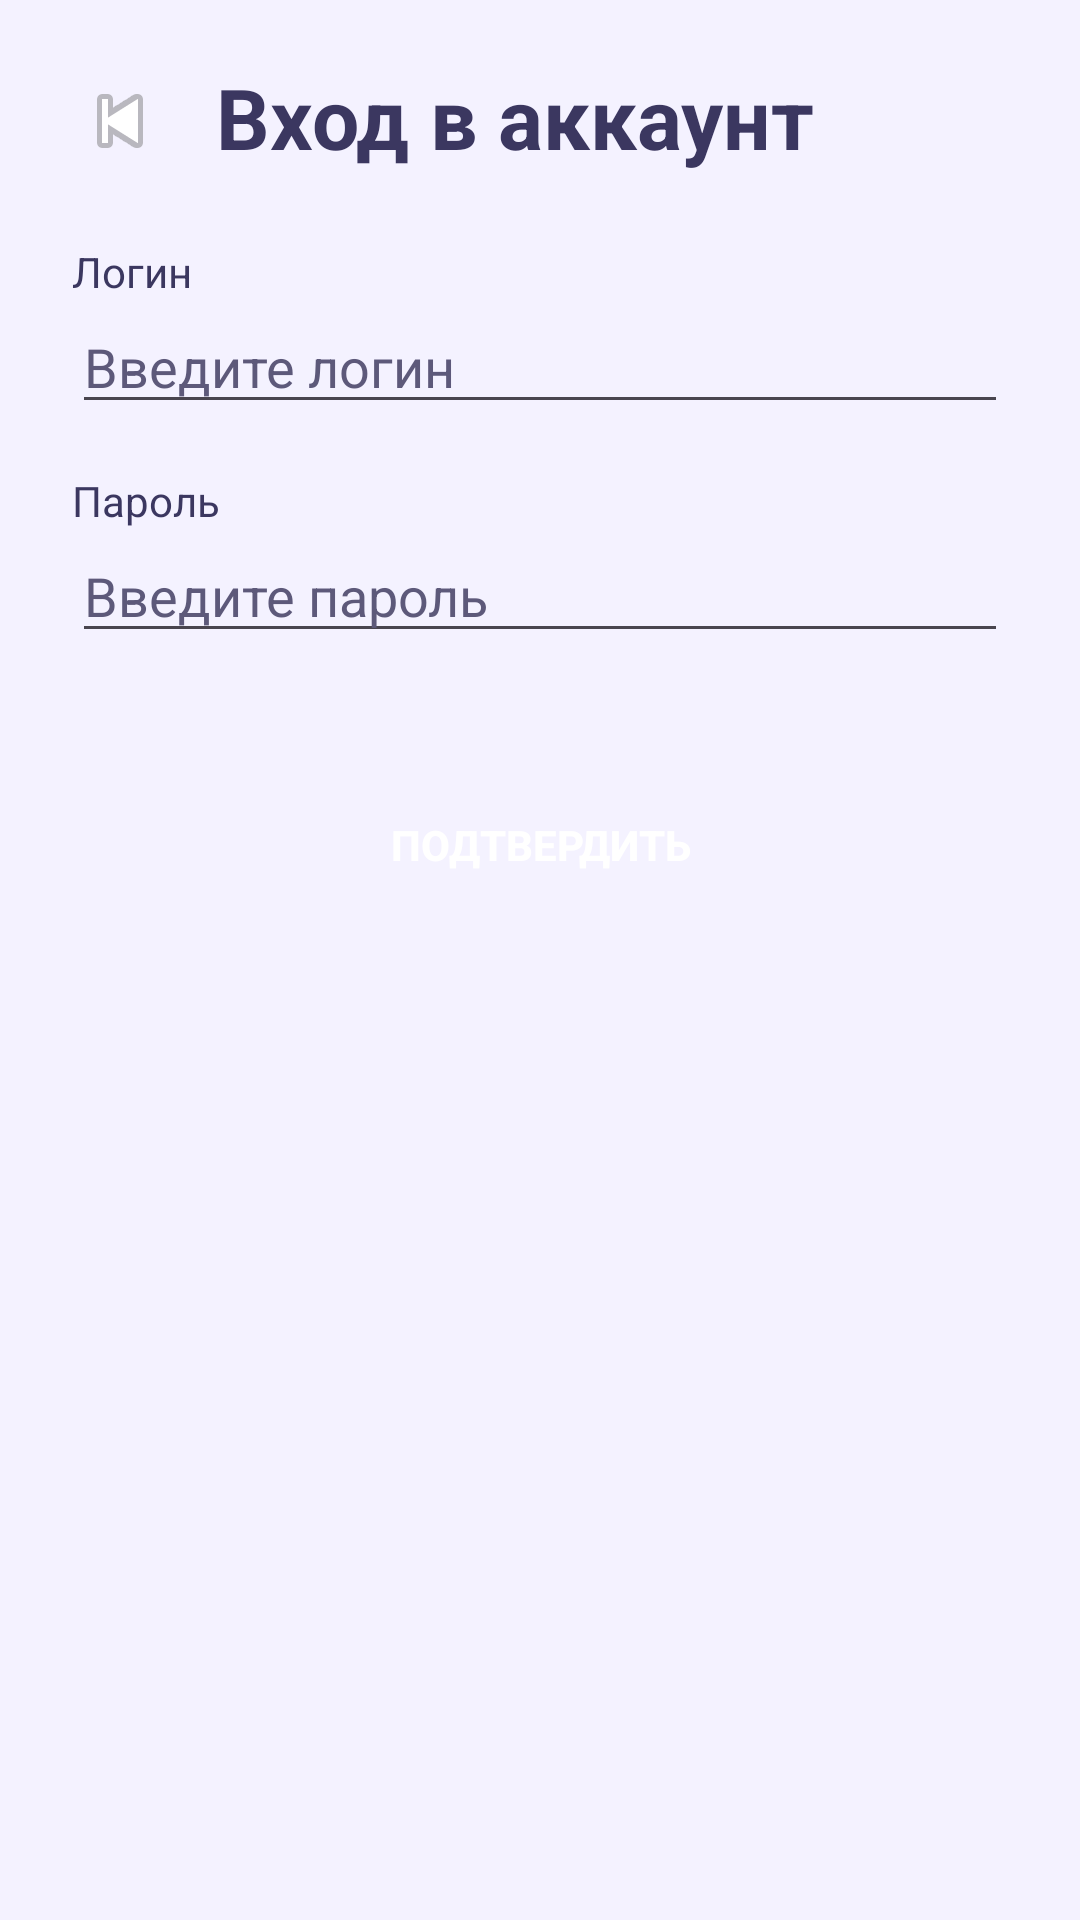

Icons on this 1080*1920 Android screen, each with the point to tap as (x=x, y=y):
Назад: (x=120, y=121)
